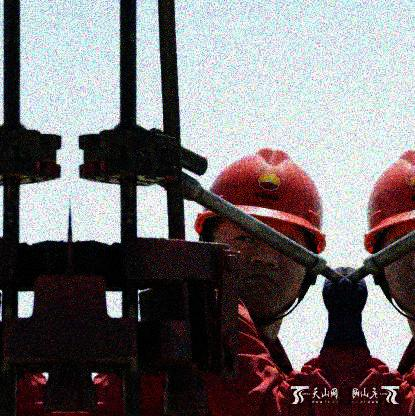helmet: (364, 151, 415, 319)
